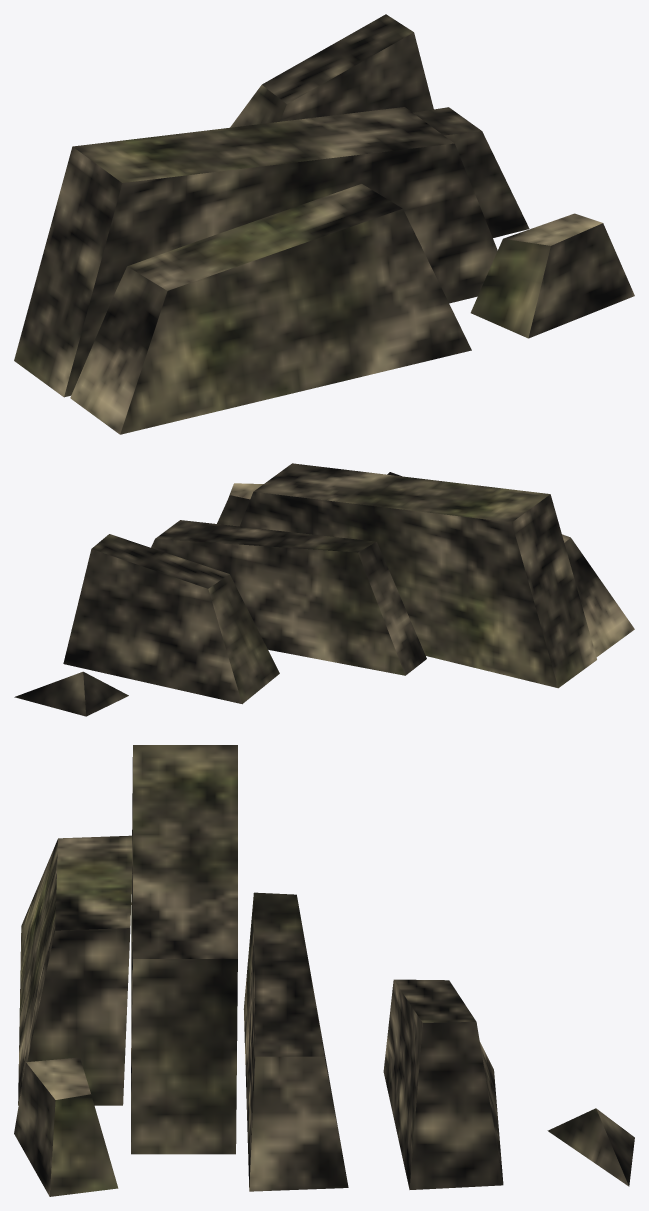
File: rock_tclump2.glb
3 renders of one model, top to bottom at view 1: azimuth 30°, elevation 25°; view 2: azimuth 150°, elevation 25°; view 3: azimuth 270°, elevation 25°, orthographic. The views are drawn at different scales.
Visible parts, largest first — view 1: Rock_TCLump2; view 2: Rock_TCLump2; view 3: Rock_TCLump2.
Boxes of the visible parts, x1,y1,x2,y2 form: Rock_TCLump2: (14,14,634,434); Rock_TCLump2: (14,463,634,716); Rock_TCLump2: (14,745,634,1196).
Bounding box in the file's own units: 16.03 × 5.74 × 15.41.
1 material, 1 textured.
